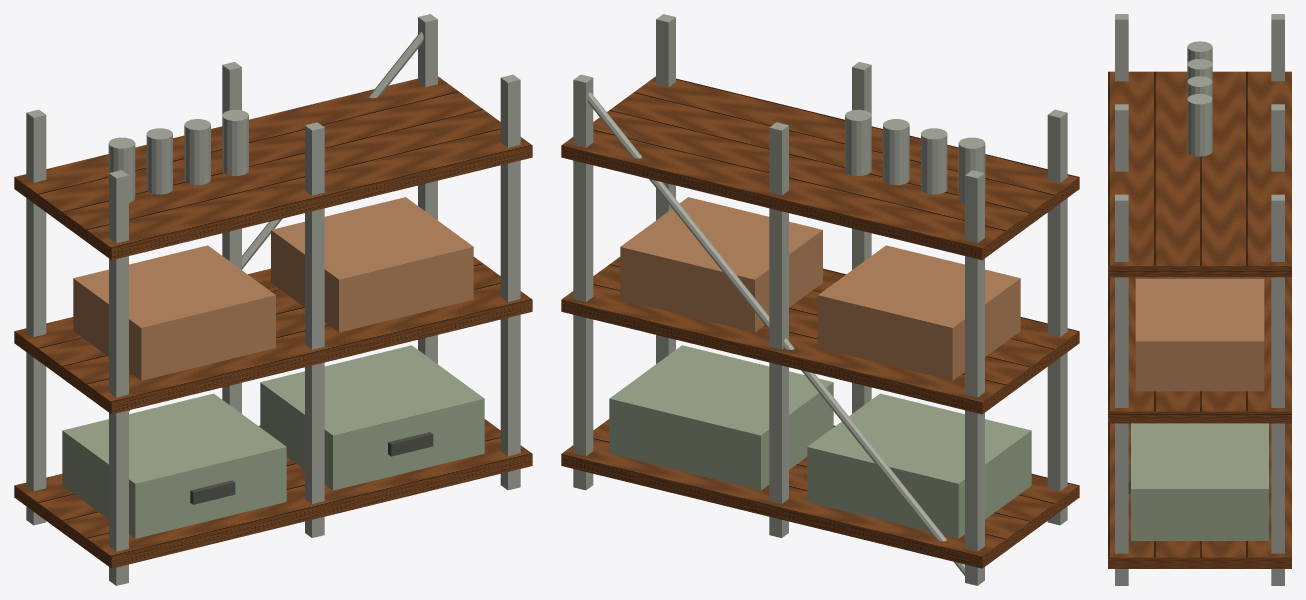
File: reclamation-yard-two-bay-salvage-rack__234.glb
3 renders of one model, left to right at view 1: azimuth 30°, elevation 25°; view 2: azimuth 150°, elevation 25°; view 3: azimuth 270°, elevation 25°, orthographic. The views are drawn at different scales.
Visible parts, largest first — view 1: wood, metal, shell, accent, dark; view 2: wood, metal, shell, accent; view 3: wood, metal, shell, accent.
Boxes of the visible parts, x1=… form: wood: x1=14, y1=76, x2=532, y2=568; metal: x1=26, y1=14, x2=520, y2=585; shell: x1=62, y1=345, x2=484, y2=538; accent: x1=73, y1=197, x2=473, y2=380; dark: x1=190, y1=432, x2=433, y2=504; wood: x1=561, y1=76, x2=1079, y2=568; metal: x1=573, y1=14, x2=1067, y2=585; shell: x1=609, y1=345, x2=1031, y2=538; accent: x1=620, y1=197, x2=1020, y2=380; wood: x1=1108, y1=71, x2=1291, y2=568; metal: x1=1115, y1=14, x2=1284, y2=585; shell: x1=1131, y1=423, x2=1268, y2=540; accent: x1=1135, y1=277, x2=1264, y2=391.
Bounding box in the file's own units: 2 × 1.86 × 0.8.
Materials: 5 (1 with a texture image).
